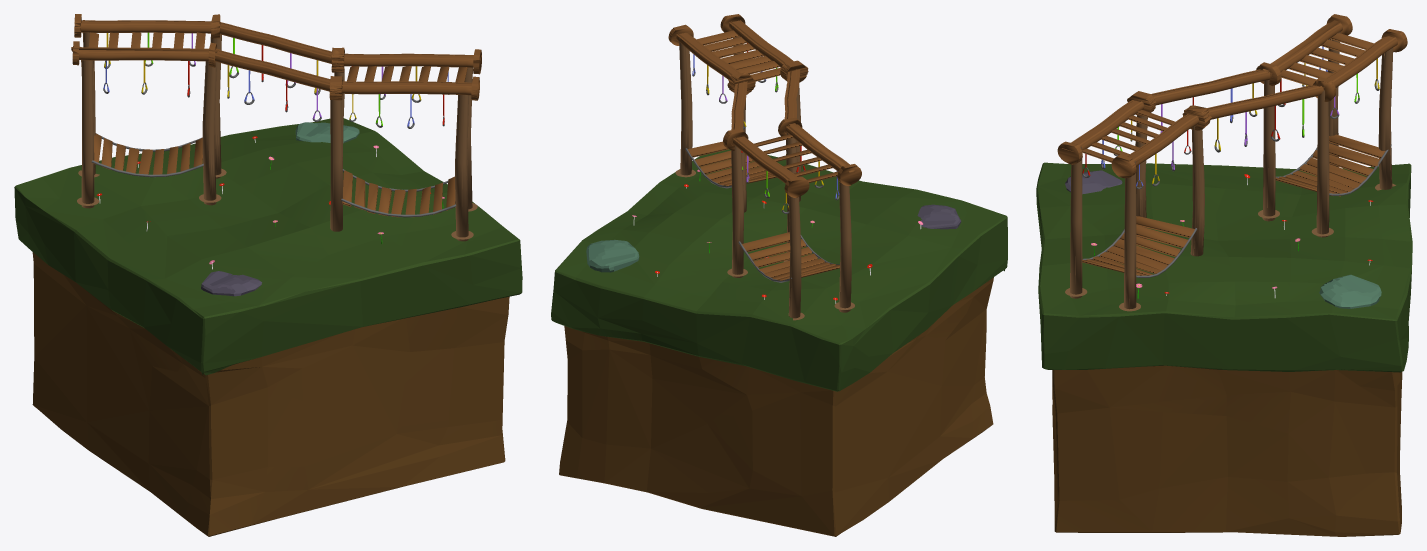
The model's file is tile_junglegym.min.gltf.
The picture shows the model from 3 angles, left to right: view 1: azimuth 30°, elevation 25°; view 2: azimuth 150°, elevation 25°; view 3: azimuth 270°, elevation 25°; orthographic projection. The views are drawn at different scales.
Visible parts, largest first — view 1: CENTERED.012, Object_76.000, Bridge.007, Bridge.008, Object_83.003, Object_89.002, Object_86.001, Torus.000, Object_85.001, Box001.044, Bridge.001, Bridge.004 (+3 smaller); view 2: CENTERED.012, Object_76.000, Bridge.008, Bridge.001, Bridge.007, Object_89.002, Object_86.002, Object_83.002, Object_89.003, Box001.043, Bridge.004, Box001.044 (+1 smaller); view 3: CENTERED.012, Object_76.000, Bridge.008, Bridge.007, Bridge.004, Object_86.002, Object_83.003, Object_83.002, Object_89.003, Object_86.001, Box001.043, Object_84.001 (+5 smaller).
Boxes of the visible parts, box(x1,y1,x2,y2) form: CENTERED.012: box(14, 118, 522, 536); Object_76.000: box(71, 14, 481, 100); Bridge.007: box(342, 170, 455, 217); Bridge.008: box(93, 133, 202, 174); Object_83.003: box(451, 95, 473, 241); Object_89.002: box(77, 60, 99, 208); Object_86.001: box(199, 61, 221, 205); Torus.000: box(103, 32, 448, 128); Object_85.001: box(330, 100, 342, 231); Box001.044: box(201, 271, 261, 296); Bridge.001: box(347, 66, 467, 82); Bridge.004: box(88, 32, 205, 48); CENTERED.012: box(551, 149, 1007, 536); Object_76.000: box(668, 14, 861, 197); Bridge.008: box(742, 232, 839, 280); Bridge.001: box(697, 30, 781, 81); Bridge.007: box(688, 141, 776, 186); Object_89.002: box(834, 181, 854, 312); Object_86.002: box(727, 146, 747, 277); Object_83.002: box(675, 37, 695, 177); Object_89.003: box(788, 195, 804, 320); Box001.043: box(586, 239, 639, 272); Bridge.004: box(754, 134, 838, 182); Box001.044: box(917, 204, 961, 229); CENTERED.012: box(1036, 162, 1412, 536); Object_76.000: box(1057, 14, 1407, 178); Bridge.008: box(1275, 134, 1385, 196); Bridge.007: box(1082, 216, 1194, 275); Bridge.004: box(1281, 32, 1373, 85); Object_86.002: box(1311, 90, 1333, 237); Object_83.003: box(1065, 146, 1087, 298); Object_83.002: box(1119, 161, 1140, 311); Object_89.003: box(1375, 47, 1395, 190); Object_86.001: box(1258, 80, 1279, 221); Box001.043: box(1319, 274, 1381, 308); Object_84.001: box(1190, 126, 1204, 256).
Size of the model in its own units: 1.09 by 1.22 by 1.09.
